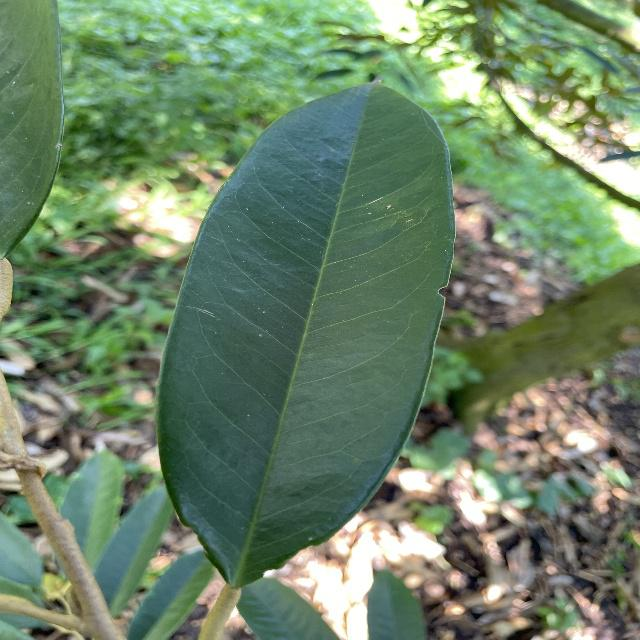No Disease: (143, 69, 463, 595)
